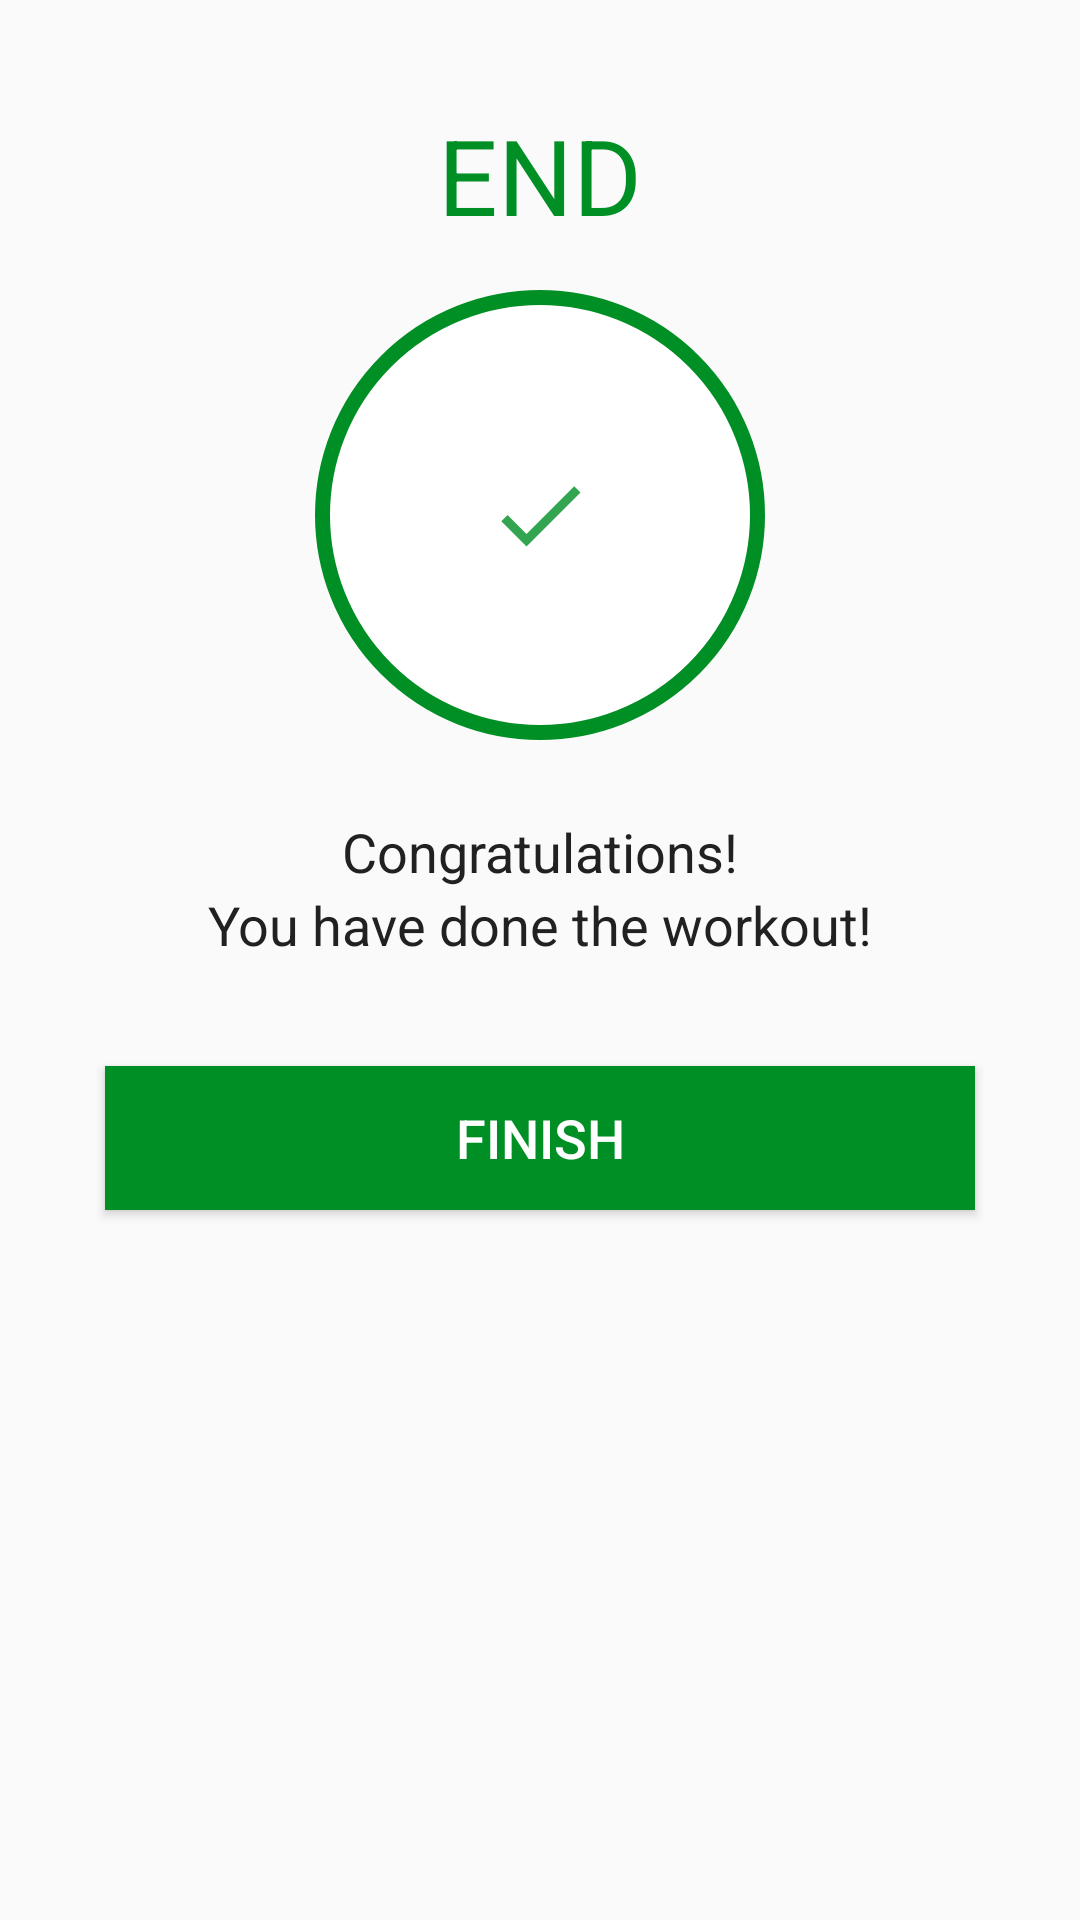

Where icons sit on this 1080w x 1920h app screen, as (x1, y1, x2, y2):
done: (501, 486, 581, 547)
